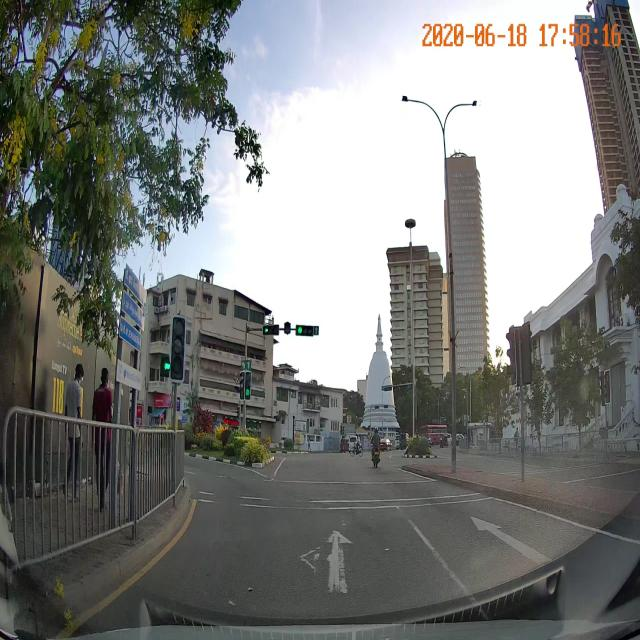forward_lft: (109, 516, 478, 591), (117, 525, 470, 583), (131, 532, 460, 576)
